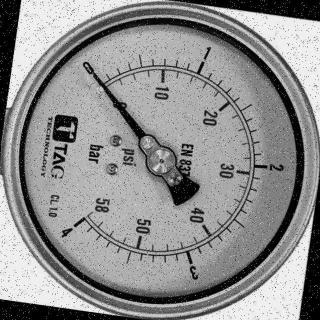gauge: (0, 0, 320, 320), (79, 58, 109, 94), (145, 145, 177, 177), (56, 212, 90, 240), (88, 65, 96, 76)
